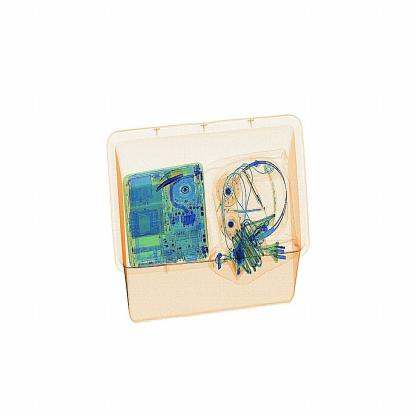pliers: (151, 165, 197, 198)
